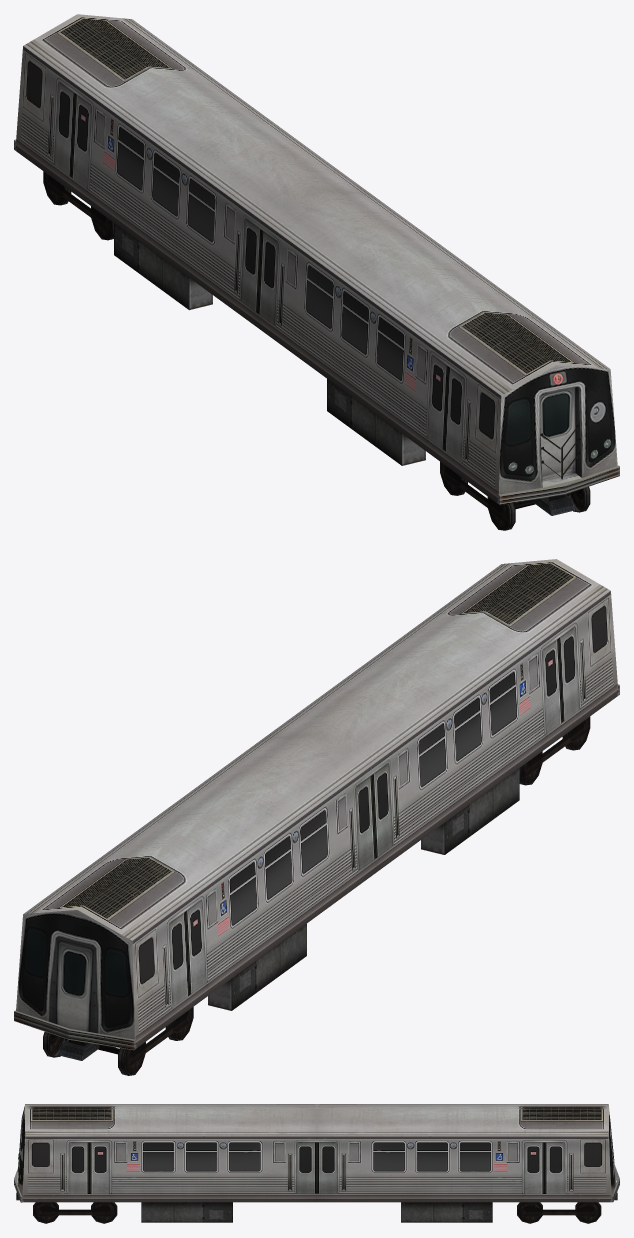
File: PassengerTrain_LOD_02.fbx
The picture shows the model from 3 angles, top to bottom: view 1: azimuth 30°, elevation 25°; view 2: azimuth 150°, elevation 25°; view 3: azimuth 270°, elevation 25°; orthographic projection. The views are drawn at different scales.
Visible parts, largest first — view 1: PassengerTrain_LOD_02; view 2: PassengerTrain_LOD_02; view 3: PassengerTrain_LOD_02.
Part boxes in pixels (x1,y1,x2,y2): PassengerTrain_LOD_02: [14, 14, 619, 530]; PassengerTrain_LOD_02: [14, 559, 619, 1075]; PassengerTrain_LOD_02: [14, 1104, 619, 1223].
Size of the model in its own units: 2.61 by 3.48 by 18.67.
